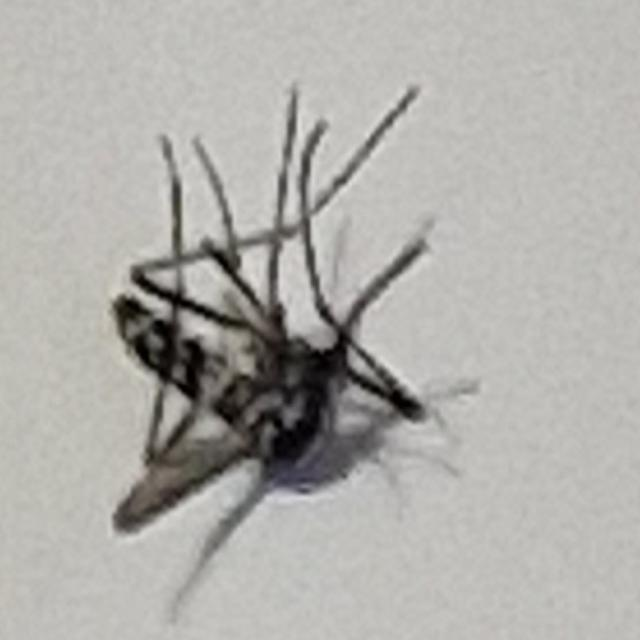albopictus: (73, 64, 457, 579)
